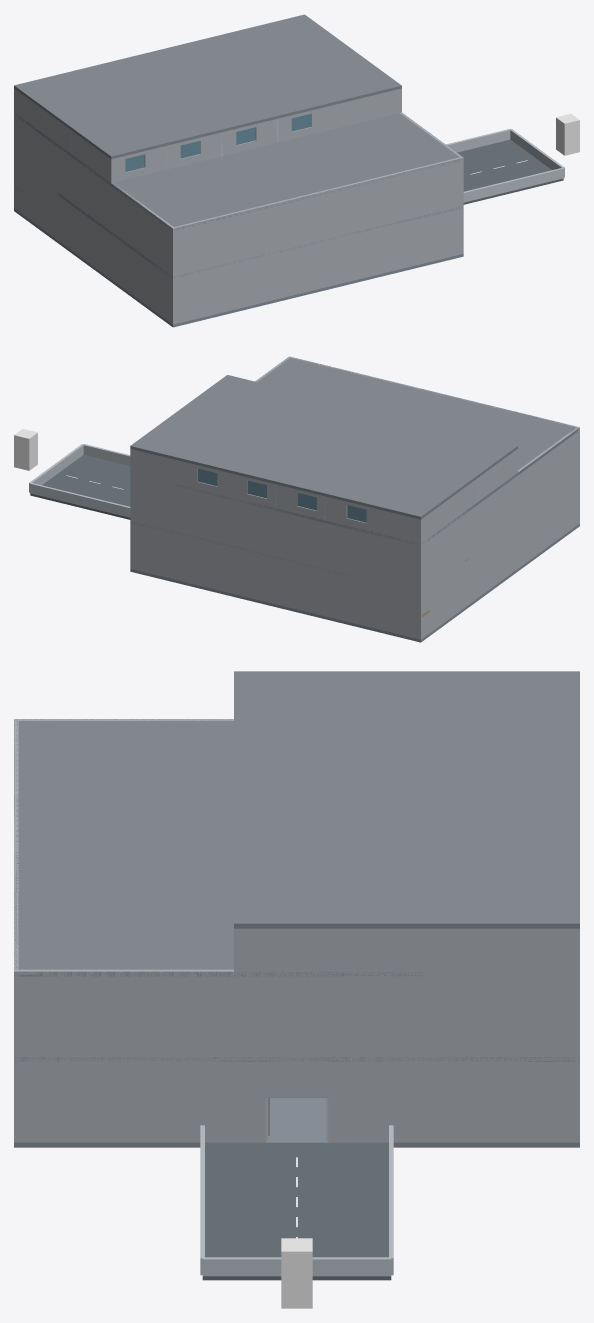
Rendered from stage03.gltf.
3 renders of one model, top to bottom at view 1: azimuth 30°, elevation 25°; view 2: azimuth 150°, elevation 25°; view 3: azimuth 270°, elevation 25°, orthographic. The views are drawn at different scales.
Visible parts, largest first — view 1: Hotel_Roof_MainSlab.001, Hotel_LowRoof_South.001, F2_Envelope_South_Segment01.001, F1_Envelope_South_Segment01.001, F2_Envelope_East_Segment01.001, F1_Envelope_East_Segment01.001, Outdoor_Road_Floor.001, F3_Envelope_East_Segment01.001, F3_Envelope_South_Segment01.001, F1_Foundation_Floor.001, Outdoor_Boundary_South_Segment01.001, Outdoor_DistantWhiteStructure_Placeholder.001 (+5 smaller); view 2: Hotel_Roof_MainSlab.001, F1_Envelope_North_Segment01.001, F2_Envelope_North_Segment01.001, Hotel_LowRoof_South.001, F1_Envelope_East_Segment01.001, F2_Envelope_East_Segment01.001, Outdoor_Road_Floor.001, F3_Envelope_East_Segment01.001, F3_Envelope_North_Segment01.001, F1_Foundation_Floor.001, F3_Envelope_North_Segment05.001, Outdoor_Boundary_North_Segment01.001 (+7 smaller); view 3: Hotel_Roof_MainSlab.001, Hotel_LowRoof_South.001, F2_Envelope_West_Segment01.001, Outdoor_Road_Floor.001, F1_Envelope_West_Segment02.001, F1_Envelope_West_Segment01.001, F3_Envelope_West_Segment01.001, F1_Foundation_Floor.001, Outdoor_Road_End_Segment01.001, F1_Envelope_West_Lintel01.001, Outdoor_DistantWhiteStructure_Placeholder.001, F2_Envelope_South_Segment01.001 (+1 smaller).
Boxes of the visible parts, x1=… form: Hotel_Roof_MainSlab.001: x1=14, y1=14, x2=401, y2=159; Hotel_LowRoof_South.001: x1=111, y1=112, x2=462, y2=229; F2_Envelope_South_Segment01.001: x1=171, y1=156, x2=463, y2=275; F1_Envelope_South_Segment01.001: x1=171, y1=206, x2=463, y2=324; F2_Envelope_East_Segment01.001: x1=14, y1=112, x2=175, y2=276; F1_Envelope_East_Segment01.001: x1=14, y1=161, x2=175, y2=324; Outdoor_Road_Floor.001: x1=457, y1=139, x2=563, y2=204; F3_Envelope_East_Segment01.001: x1=14, y1=88, x2=113, y2=183; F3_Envelope_South_Segment01.001: x1=311, y1=88, x2=401, y2=134; F1_Foundation_Floor.001: x1=14, y1=208, x2=463, y2=327; Outdoor_Boundary_South_Segment01.001: x1=463, y1=167, x2=564, y2=202; Outdoor_DistantWhiteStructure_Placeholder.001: x1=556, y1=113, x2=579, y2=155; Hotel_Roof_MainSlab.001: x1=130, y1=375, x2=517, y2=519; F1_Envelope_North_Segment01.001: x1=130, y1=521, x2=422, y2=639; F2_Envelope_North_Segment01.001: x1=130, y1=473, x2=422, y2=591; Hotel_LowRoof_South.001: x1=256, y1=357, x2=578, y2=474; F1_Envelope_East_Segment01.001: x1=418, y1=476, x2=578, y2=639; F2_Envelope_East_Segment01.001: x1=418, y1=427, x2=579, y2=591; Outdoor_Road_Floor.001: x1=30, y1=454, x2=130, y2=519; F3_Envelope_East_Segment01.001: x1=418, y1=449, x2=517, y2=543; F3_Envelope_North_Segment01.001: x1=130, y1=449, x2=197, y2=488; F1_Foundation_Floor.001: x1=130, y1=523, x2=579, y2=642; F3_Envelope_North_Segment05.001: x1=366, y1=506, x2=422, y2=543; Outdoor_Boundary_North_Segment01.001: x1=29, y1=482, x2=130, y2=517; Hotel_Roof_MainSlab.001: x1=234, y1=671, x2=579, y2=928; Hotel_LowRoof_South.001: x1=14, y1=719, x2=233, y2=976; F2_Envelope_West_Segment01.001: x1=14, y1=969, x2=579, y2=1056; Outdoor_Road_Floor.001: x1=202, y1=1142, x2=391, y2=1280; F1_Envelope_West_Segment02.001: x1=14, y1=1057, x2=265, y2=1142; F1_Envelope_West_Segment01.001: x1=328, y1=1057, x2=579, y2=1142; F3_Envelope_West_Segment01.001: x1=234, y1=928, x2=579, y2=971; F1_Foundation_Floor.001: x1=14, y1=1098, x2=579, y2=1147; Outdoor_Road_End_Segment01.001: x1=202, y1=1257, x2=391, y2=1276; F1_Envelope_West_Lintel01.001: x1=265, y1=1057, x2=328, y2=1096; Outdoor_DistantWhiteStructure_Placeholder.001: x1=281, y1=1238, x2=312, y2=1308; F2_Envelope_South_Segment01.001: x1=14, y1=719, x2=18, y2=1056.
Size of the model in its own units: 63 by 15.7 by 36.
